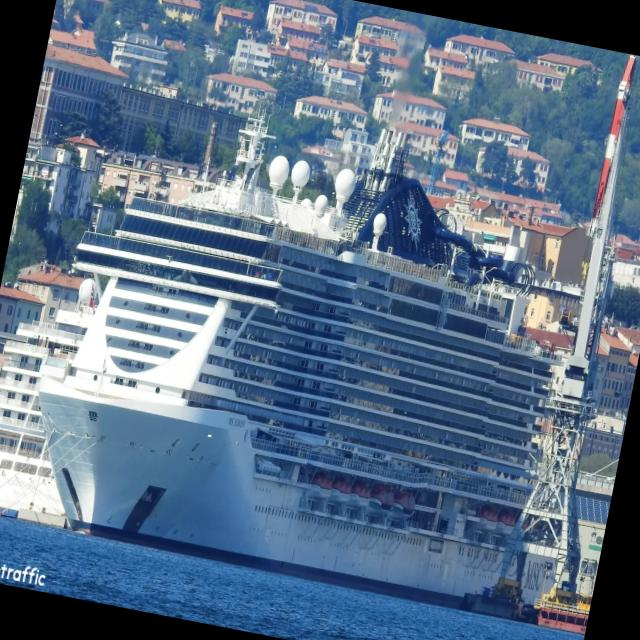Cruise: (39, 117, 555, 606)
